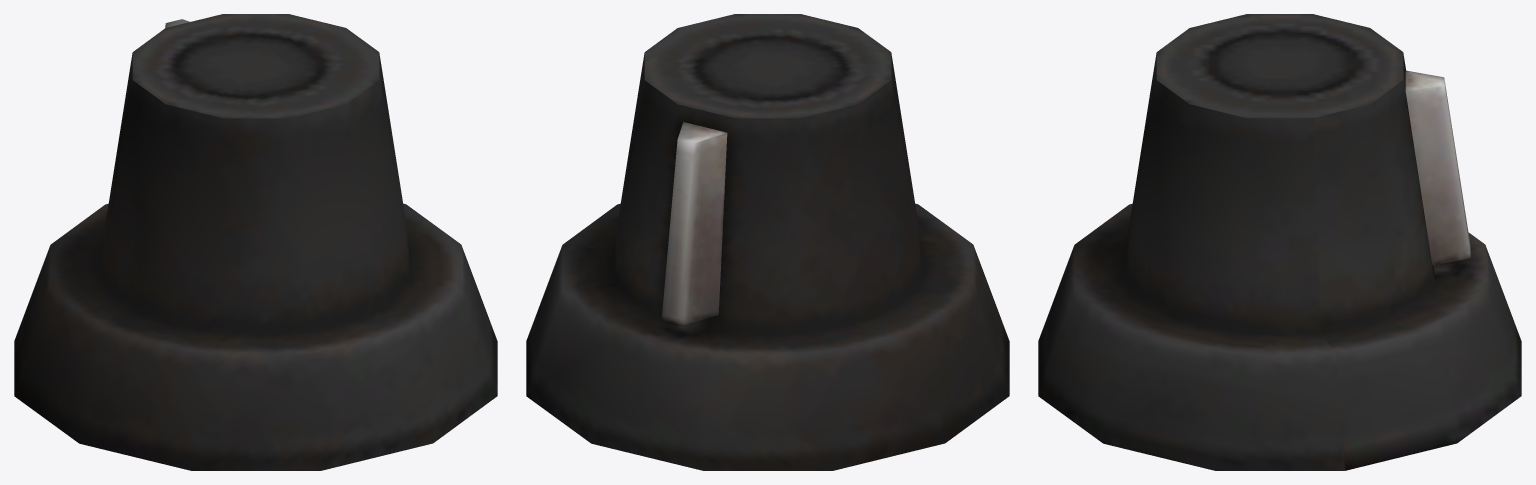
The model's file is control_board_pplant_knob.dae.
3 renders of one model, left to right at view 1: azimuth 30°, elevation 25°; view 2: azimuth 150°, elevation 25°; view 3: azimuth 270°, elevation 25°, orthographic.
Visible parts, largest first — view 1: knob; view 2: knob; view 3: knob.
Boxes of the visible parts, bbox=[...] form: knob: bbox=[14, 14, 497, 470]; knob: bbox=[526, 14, 1009, 470]; knob: bbox=[1038, 14, 1521, 470].
Size of the model in its own units: 0.1015 by 0.0701 by 0.1015.
